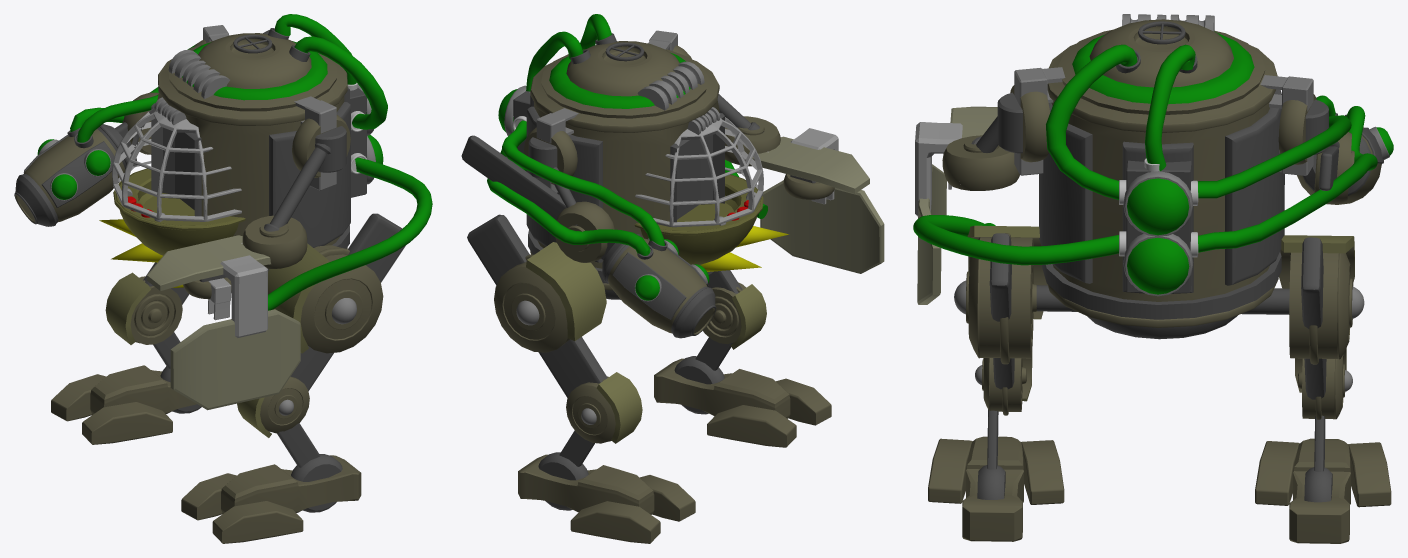
The model's file is raider2.fbx.
3 views of the same model, side by side, from view 1: azimuth 30°, elevation 25°; view 2: azimuth 150°, elevation 25°; view 3: azimuth 270°, elevation 25° (orthographic). The views are drawn at different scales.
Visible parts, largest first — view 1: polySurface1550, polySurface1471, polySurface1385, polySurface1587, polySurface1582, polySurface1404, polySurface1505, polySurface1577, polySurface1541, polySurface1367, polySurface1493, polySurface1457 (+26 smaller); view 2: polySurface1550, polySurface1553, polySurface1471, polySurface1587, polySurface1536, polySurface1582, polySurface1457, polySurface1404, polySurface1577, polySurface1541, polySurface1367, polySurface1493 (+29 smaller); view 3: polySurface1550, polySurface1385, polySurface1553, polySurface1541, polySurface1404, polySurface1457, polySurface1505, polySurface1380, polySurface1530, polySurface1589, polySurface1475, polySurface1529 (+30 smaller).
Boxes of the visible parts, <box> form: polySurface1550: <box>151,41,350,292</box>; polySurface1471: <box>170,309,300,410</box>; polySurface1385: <box>268,243,383,353</box>; polySurface1587: <box>14,124,131,226</box>; polySurface1582: <box>112,108,241,221</box>; polySurface1404: <box>221,455,361,513</box>; polySurface1505: <box>268,157,432,310</box>; polySurface1577: <box>113,168,245,255</box>; polySurface1541: <box>198,33,311,88</box>; polySurface1367: <box>105,272,182,344</box>; polySurface1493: <box>147,235,270,290</box>; polySurface1457: <box>90,365,196,414</box>; polySurface1550: <box>526,49,724,299</box>; polySurface1553: <box>494,242,606,352</box>; polySurface1471: <box>760,180,884,273</box>; polySurface1587: <box>602,234,716,338</box>; polySurface1536: <box>467,214,607,397</box>; polySurface1582: <box>635,117,763,227</box>; polySurface1457: <box>518,454,654,514</box>; polySurface1404: <box>654,358,790,418</box>; polySurface1577: <box>634,172,763,264</box>; polySurface1541: <box>566,41,679,96</box>; polySurface1367: <box>566,372,642,443</box>; polySurface1493: <box>749,136,869,193</box>; polySurface1550: <box>1039,29,1284,339</box>; polySurface1385: <box>966,225,1047,364</box>; polySurface1553: <box>1279,235,1354,364</box>; polySurface1541: <box>1089,19,1233,87</box>; polySurface1404: <box>962,436,1023,541</box>; polySurface1457: <box>1289,438,1350,543</box>; polySurface1505: <box>913,215,1118,265</box>; polySurface1380: <box>1042,251,1281,319</box>; polySurface1530: <box>1046,44,1137,199</box>; polySurface1589: <box>1198,106,1377,252</box>; polySurface1475: <box>1123,171,1193,236</box>; polySurface1529: <box>1072,31,1254,104</box>.
Size of the model in its own units: 294 by 406 by 340.
